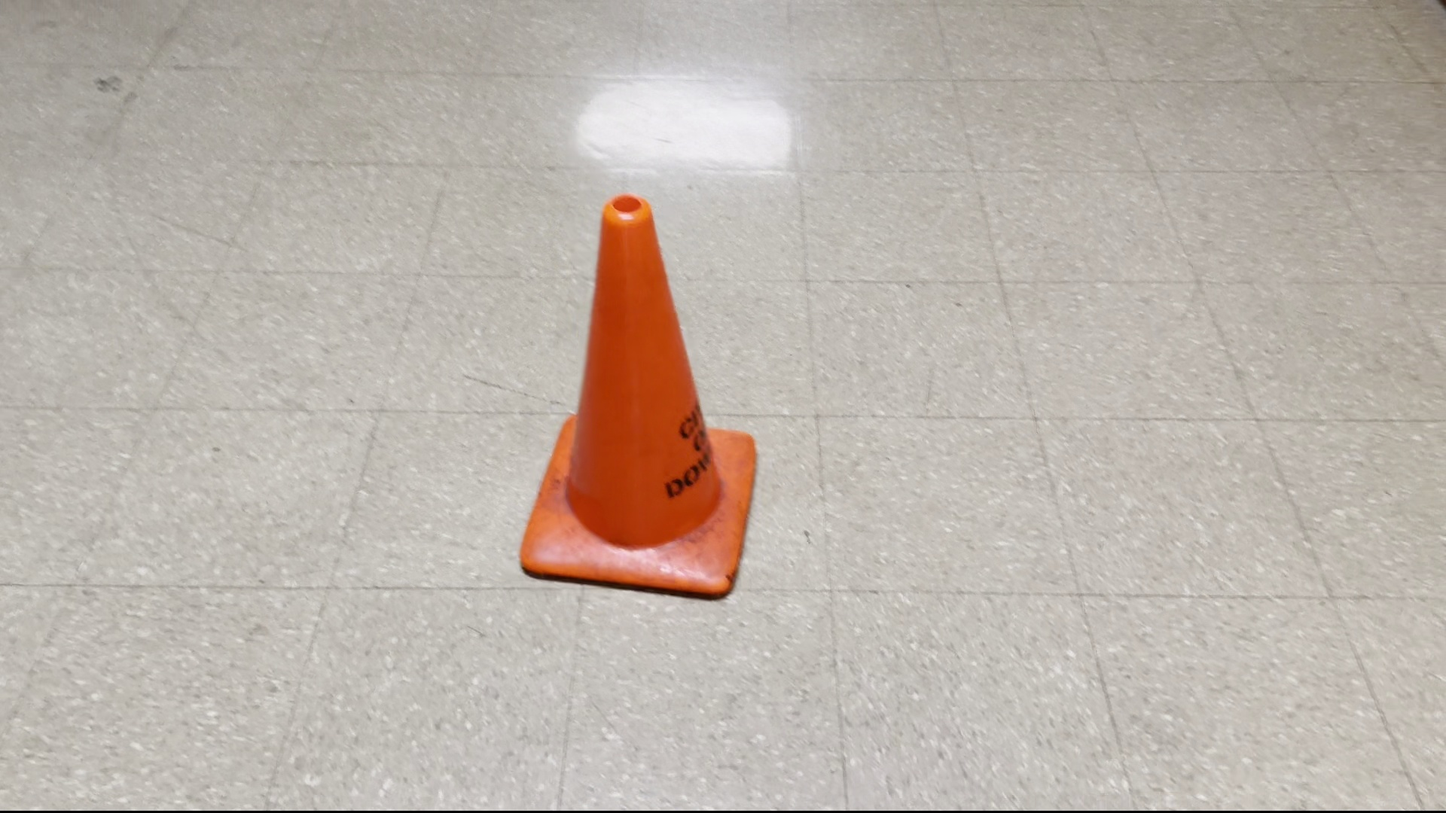traffic_cone: (518, 192, 758, 599)
